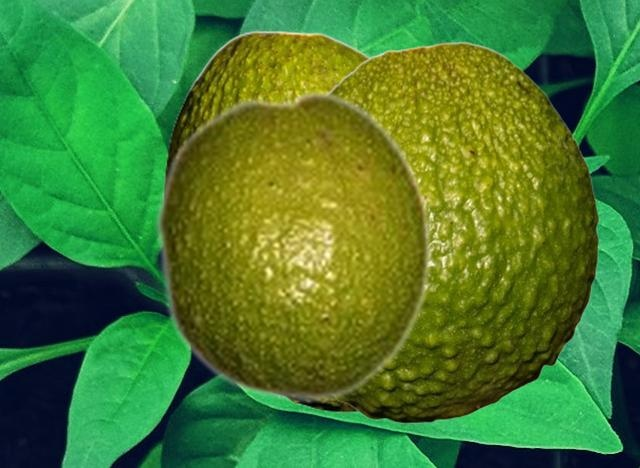avocado: (328, 41, 598, 422), (154, 88, 433, 404), (163, 30, 371, 411)
